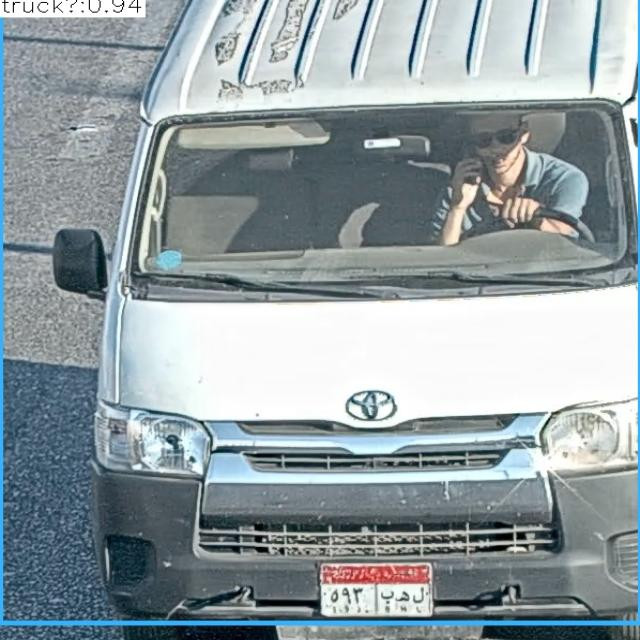windshield: (120, 112, 640, 286)
